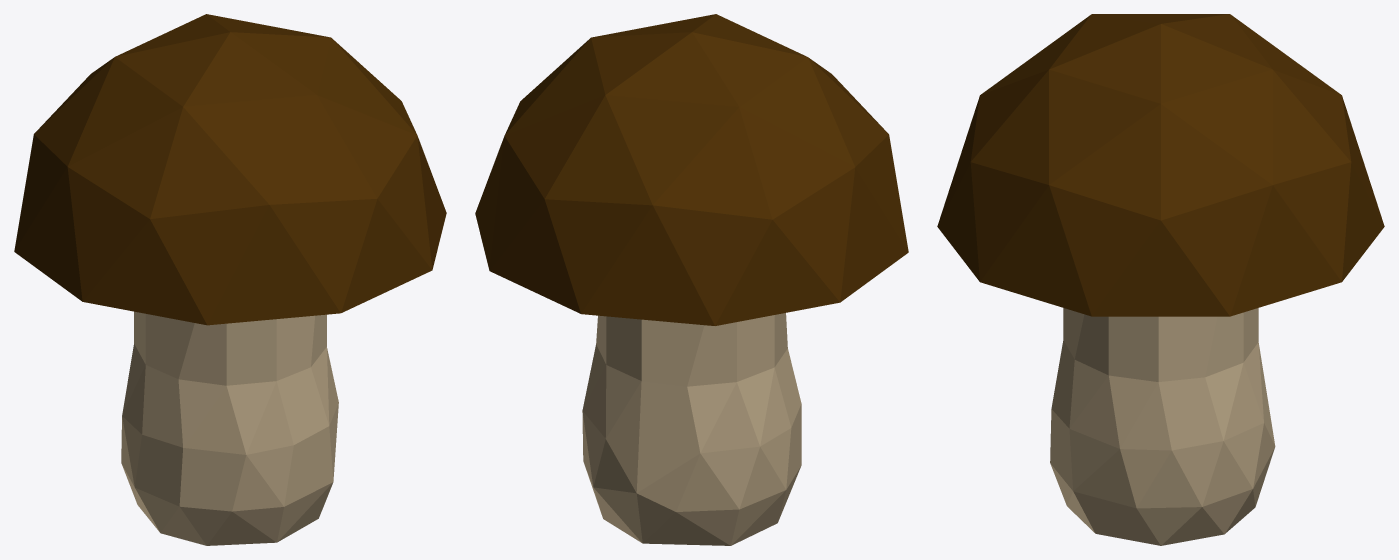
The model's file is Shroom1.fbx.
3 views of the same model, side by side, from view 1: azimuth 30°, elevation 25°; view 2: azimuth 150°, elevation 25°; view 3: azimuth 270°, elevation 25° (orthographic).
Parts seen in each view (by area): view 1: Icosphere, Cylinder; view 2: Icosphere, Cylinder; view 3: Icosphere, Cylinder.
Part boxes in pixels (x1=…): Icosphere: x1=14, y1=14, x2=446, y2=325; Cylinder: x1=121, y1=311, x2=338, y2=545; Icosphere: x1=475, y1=14, x2=908, y2=325; Cylinder: x1=582, y1=313, x2=801, y2=545; Icosphere: x1=937, y1=14, x2=1384, y2=316; Cylinder: x1=1050, y1=308, x2=1275, y2=545.
Size of the model in its own units: 338 by 422 by 355.
